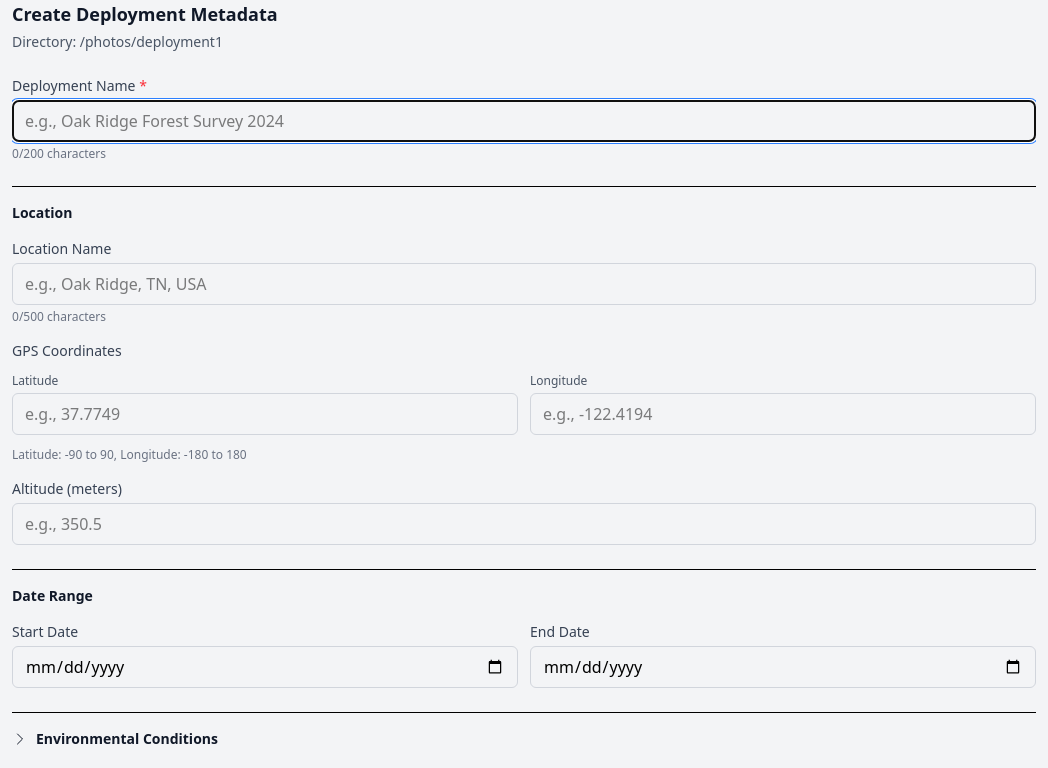
Test: DeploymentEditor › renders collapsible sections
The width and height of the screenshot is (1048, 768).
Click to expand
Click the button "Environmental Conditions" at (115,739), box 12,729 -> 218,749
(page scrolled)
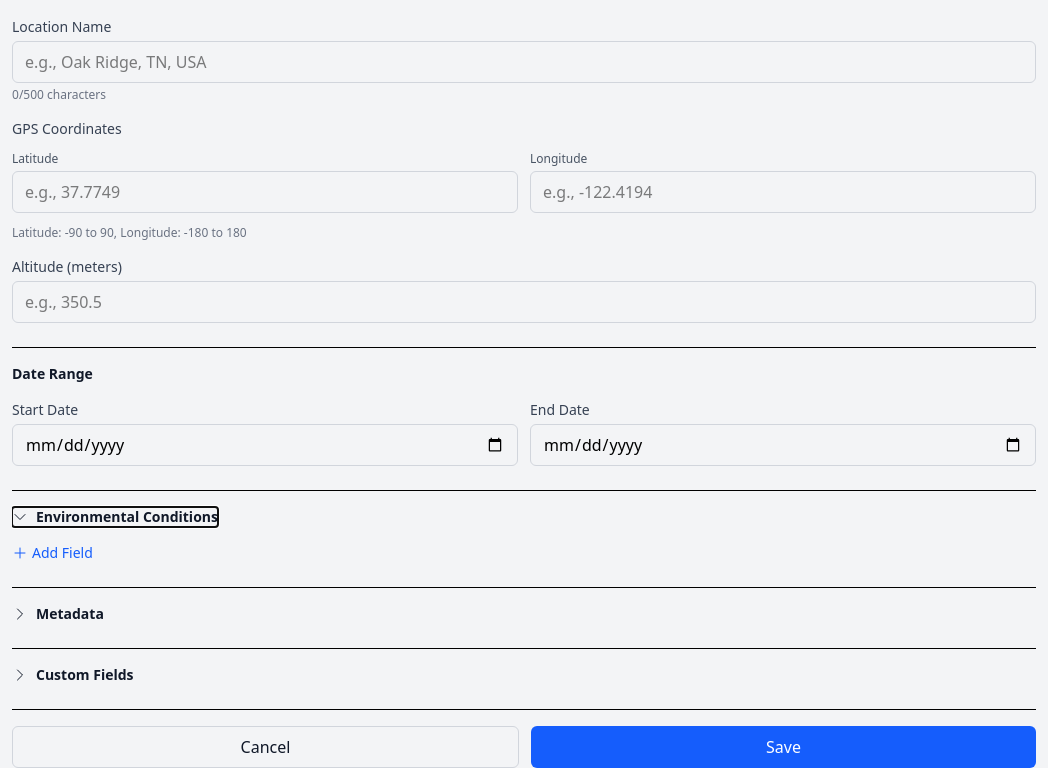
Expected: the button with aria-label "add environmental field" is shown, 12,543 -> 93,563
